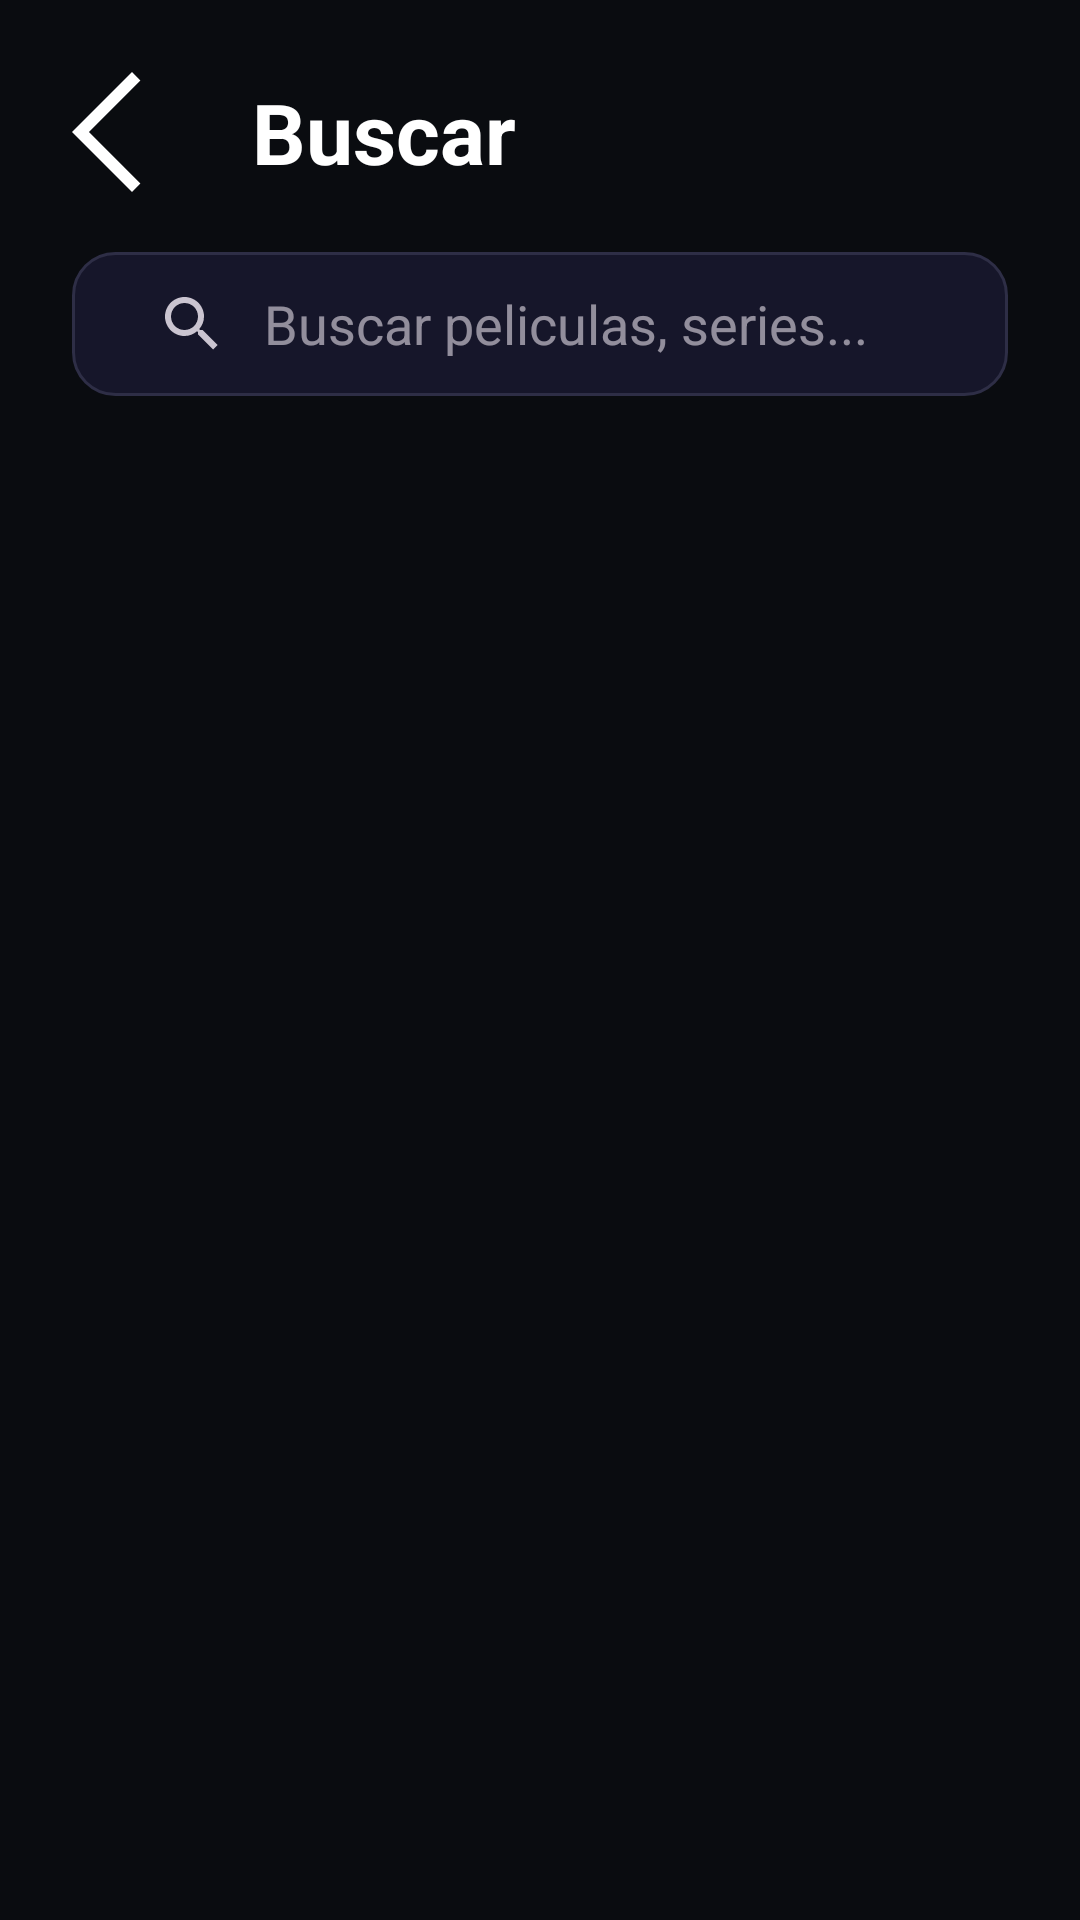

Icons on this 1080×1920 Android screen, each with the point to tap as point (x, y):
arrow back: point (106, 132)
